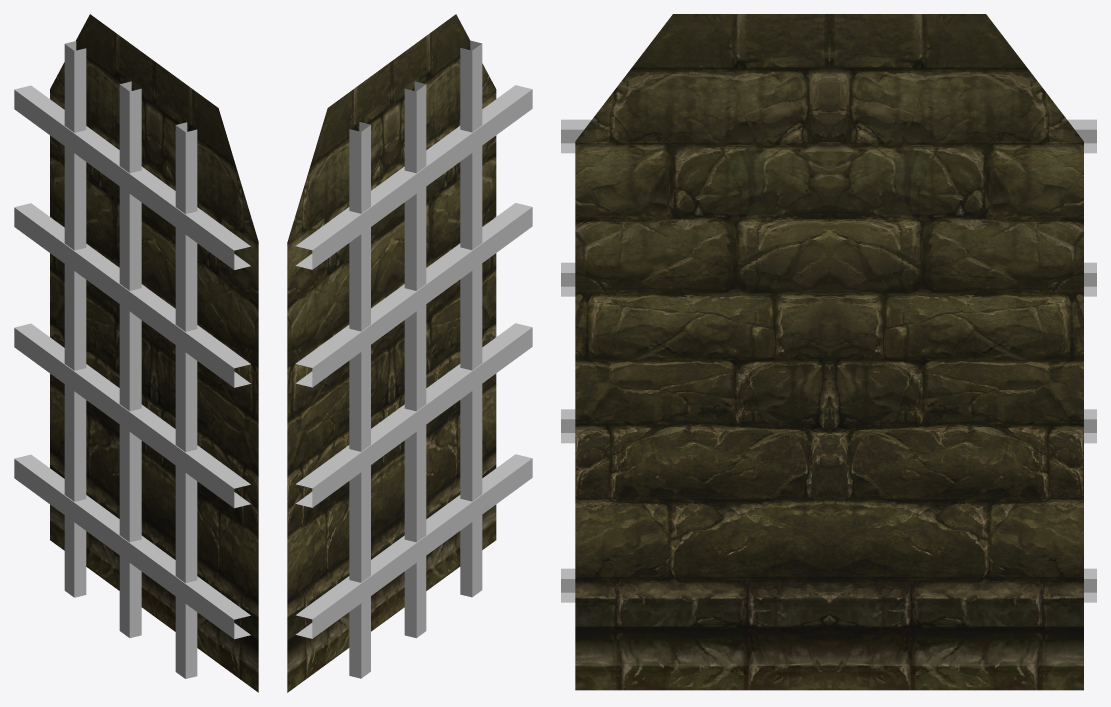
File: Stage001_DOOR_07.FBX
The picture shows the model from 3 angles, left to right: view 1: azimuth 30°, elevation 25°; view 2: azimuth 150°, elevation 25°; view 3: azimuth 270°, elevation 25°; orthographic projection. The views are drawn at different scales.
Visible parts, largest first — view 1: Stage001_DOOR_07; view 2: Stage001_DOOR_07; view 3: Stage001_DOOR_07.
Part boxes in pixels (bbox=[...]): Stage001_DOOR_07: bbox=[14, 14, 258, 692]; Stage001_DOOR_07: bbox=[287, 14, 532, 692]; Stage001_DOOR_07: bbox=[561, 14, 1096, 690].
Size of the model in its own units: 28.91 by 516 by 363.
